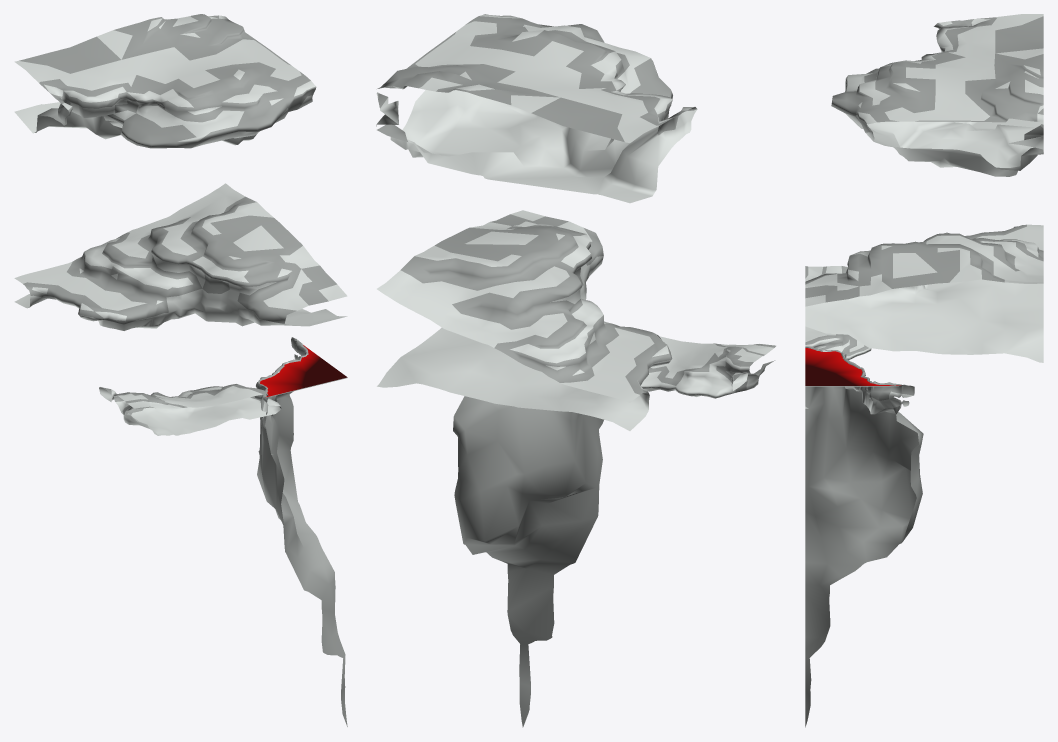
3 views of the same model, side by side, from view 1: azimuth 30°, elevation 25°; view 2: azimuth 150°, elevation 25°; view 3: azimuth 270°, elevation 25° (orthographic). The views are drawn at different scales.
Visible parts, largest first — view 1: G:\FFXIV-MapTools\exports\a2f1\bg\ex1\03_abr_a2\fld\a2f1\bgp (×13); view 2: G:\FFXIV-MapTools\exports\a2f1\bg\ex1\03_abr_a2\fld\a2f1\bgp (×12); view 3: G:\FFXIV-MapTools\exports\a2f1\bg\ex1\03_abr_a2\fld\a2f1\bgp (×12).
Part boxes in pixels (x1,y1,x2,y2): G:\FFXIV-MapTools\exports\a2f1\bg\ex1\03_abr_a2\fld\a2f1\bgp (×13): (14,14,347,726); G:\FFXIV-MapTools\exports\a2f1\bg\ex1\03_abr_a2\fld\a2f1\bgp (×12): (376,14,775,727); G:\FFXIV-MapTools\exports\a2f1\bg\ex1\03_abr_a2\fld\a2f1\bgp (×12): (805,14,1043,727).
Size of the model in its own units: 128 by 369 by 128.
